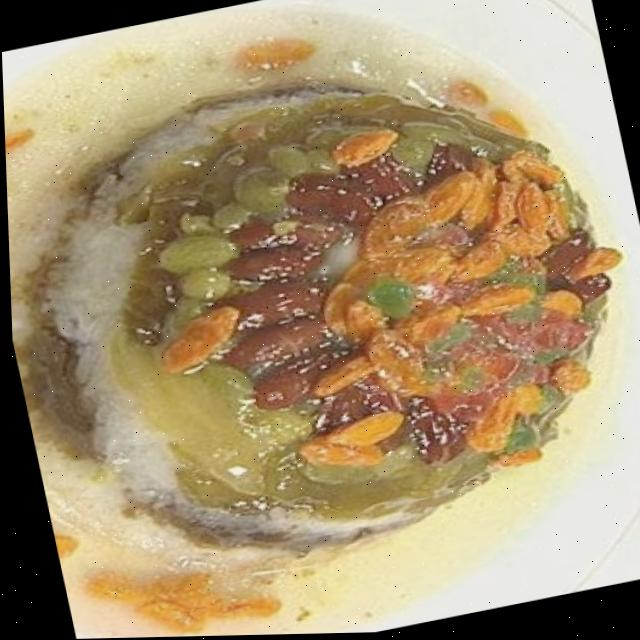米饭主食: (2, 7, 640, 630)
